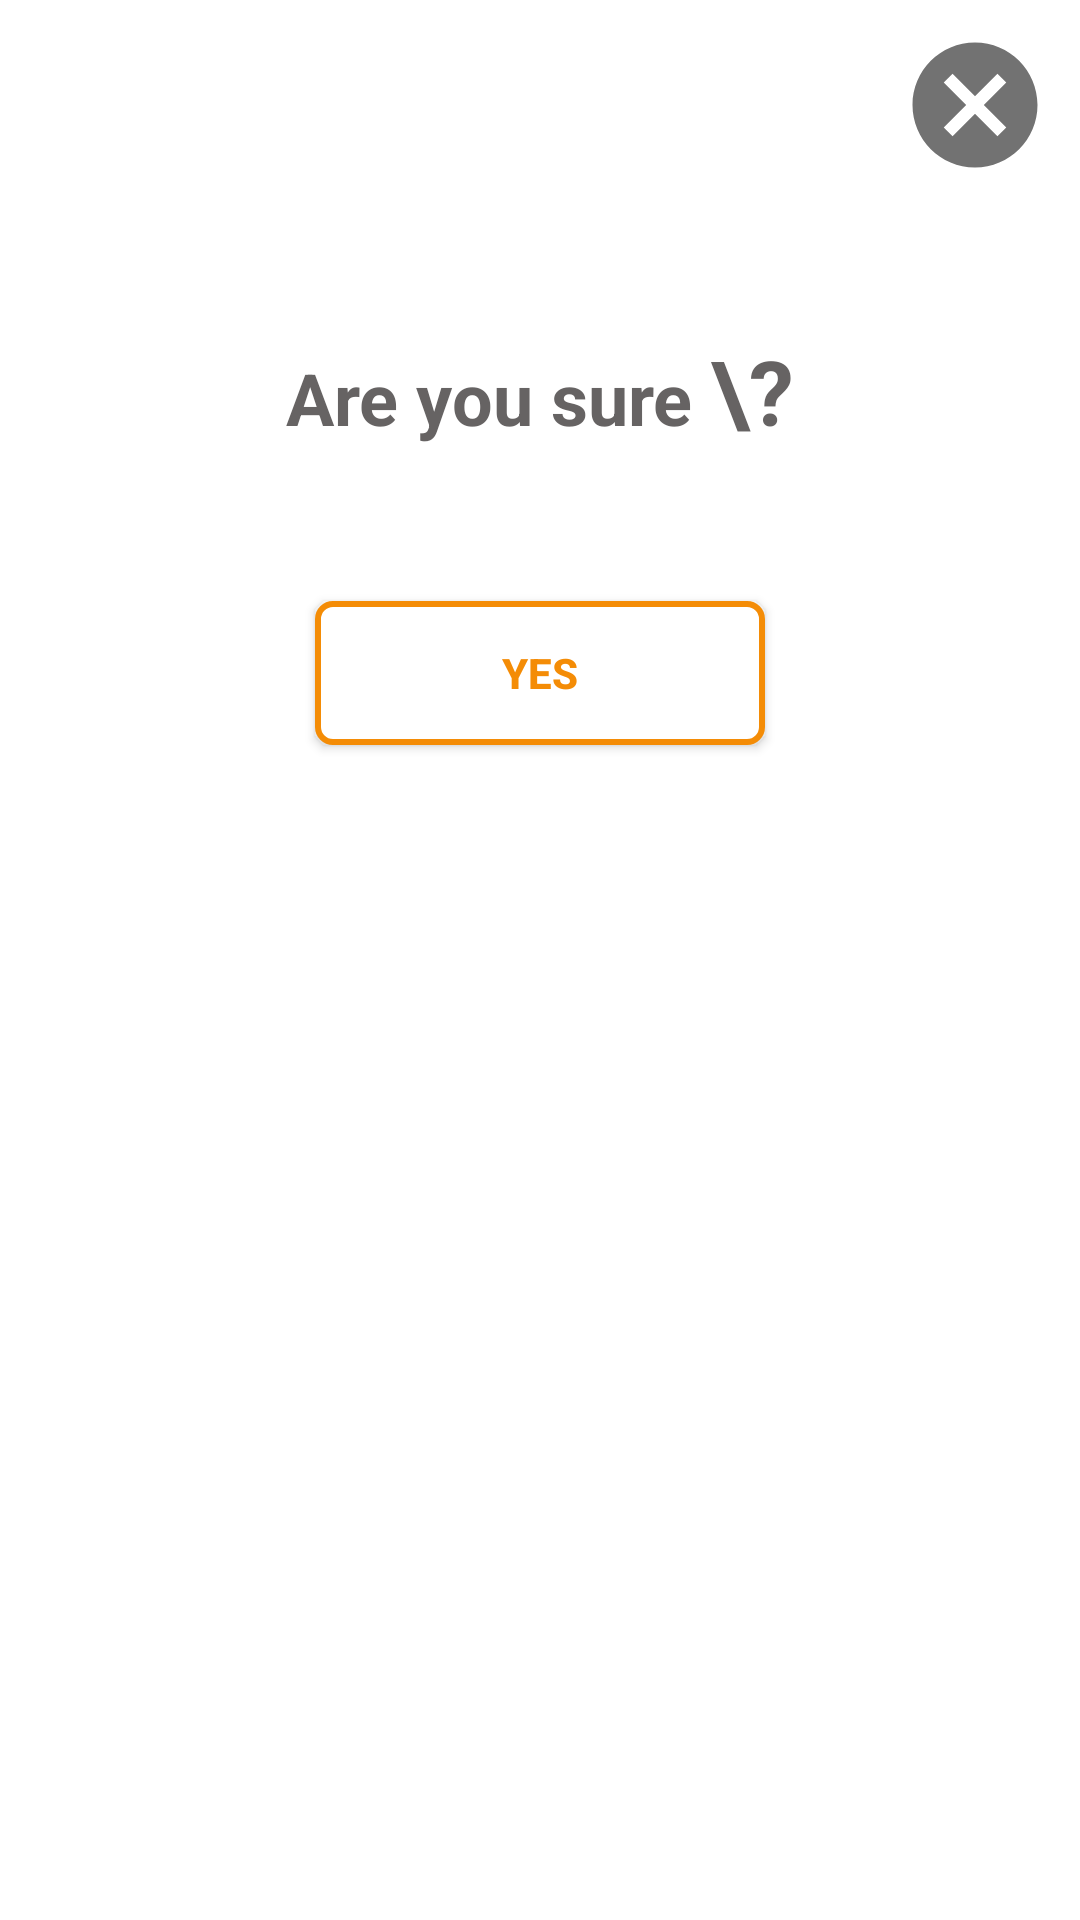

Point at icon controls on the screen. Image size 1080x1920, points as point (x, y).
cancel: point (975, 105)
